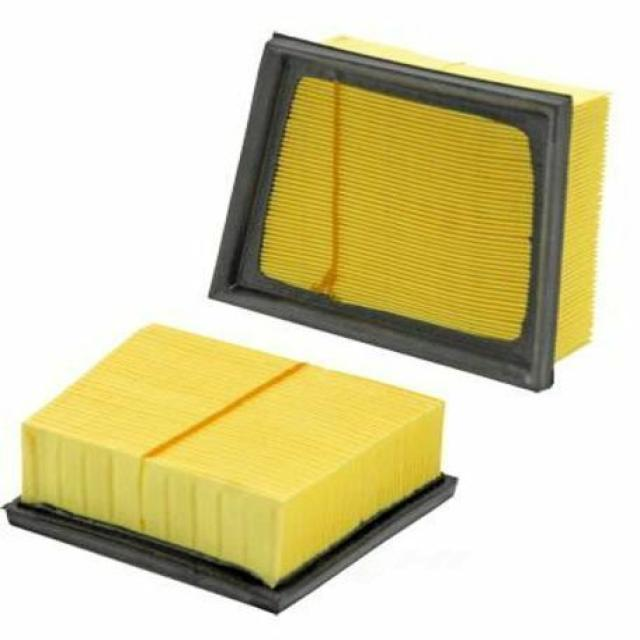air_filter: (193, 27, 618, 395), (16, 318, 447, 508)
